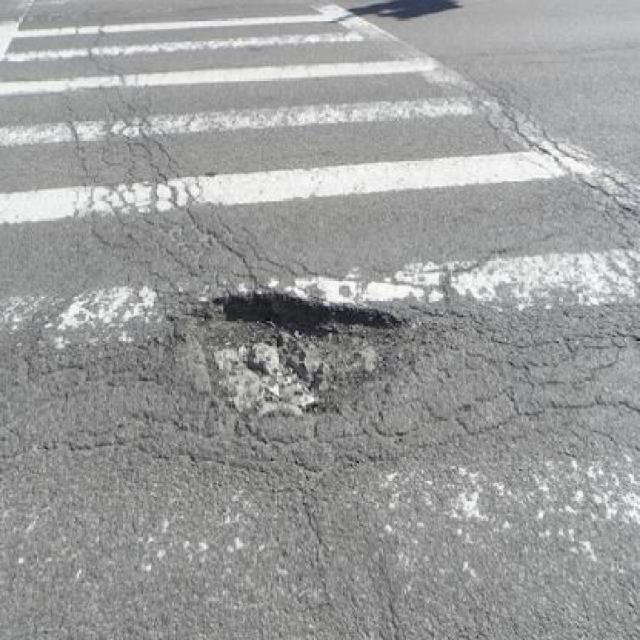pothole: (191, 281, 407, 421)
